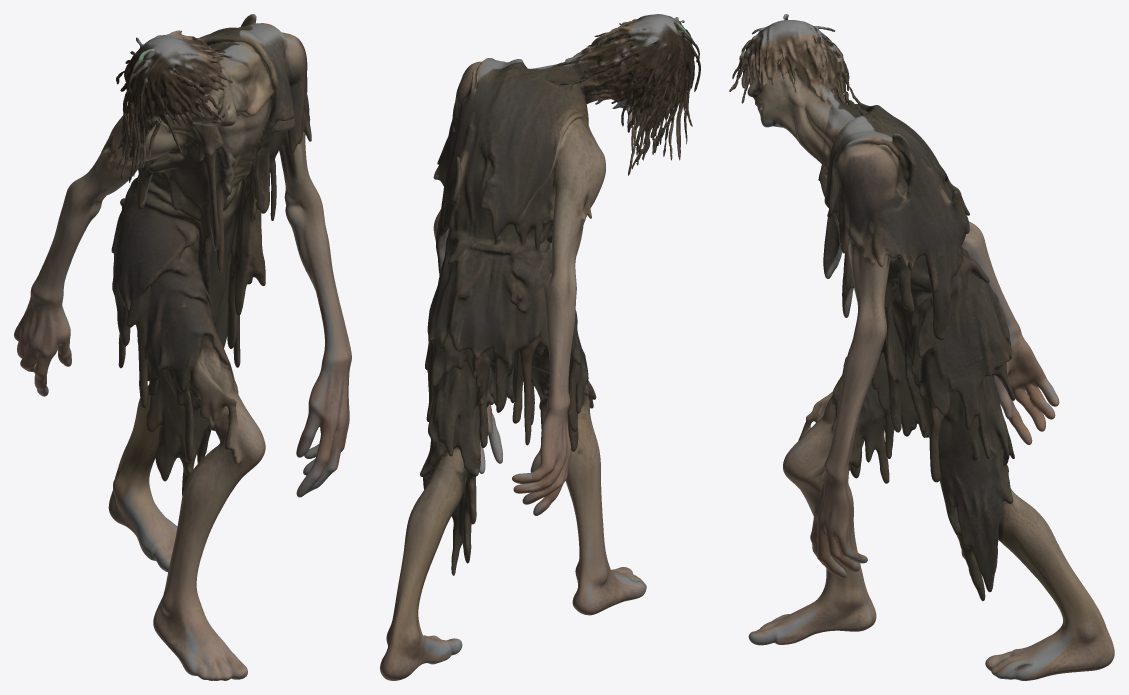
The model's file is ouvinte_tripo.glb.
3 renders of one model, left to right at view 1: azimuth 30°, elevation 25°; view 2: azimuth 150°, elevation 25°; view 3: azimuth 270°, elevation 25°, orthographic. The views are drawn at different scales.
Parts seen in each view (by area): view 1: tripo_node_f3502a48-a3d4-4a22-8688-c26cdccf9e34; view 2: tripo_node_f3502a48-a3d4-4a22-8688-c26cdccf9e34; view 3: tripo_node_f3502a48-a3d4-4a22-8688-c26cdccf9e34.
Boxes of the visible parts, x1,y1,x2,y2 form: tripo_node_f3502a48-a3d4-4a22-8688-c26cdccf9e34: [14, 14, 351, 680]; tripo_node_f3502a48-a3d4-4a22-8688-c26cdccf9e34: [380, 14, 700, 680]; tripo_node_f3502a48-a3d4-4a22-8688-c26cdccf9e34: [729, 14, 1114, 680].
Size of the model in its own units: 0.4131 by 1 by 0.5835.
Materials: 1 (1 with a texture image).
